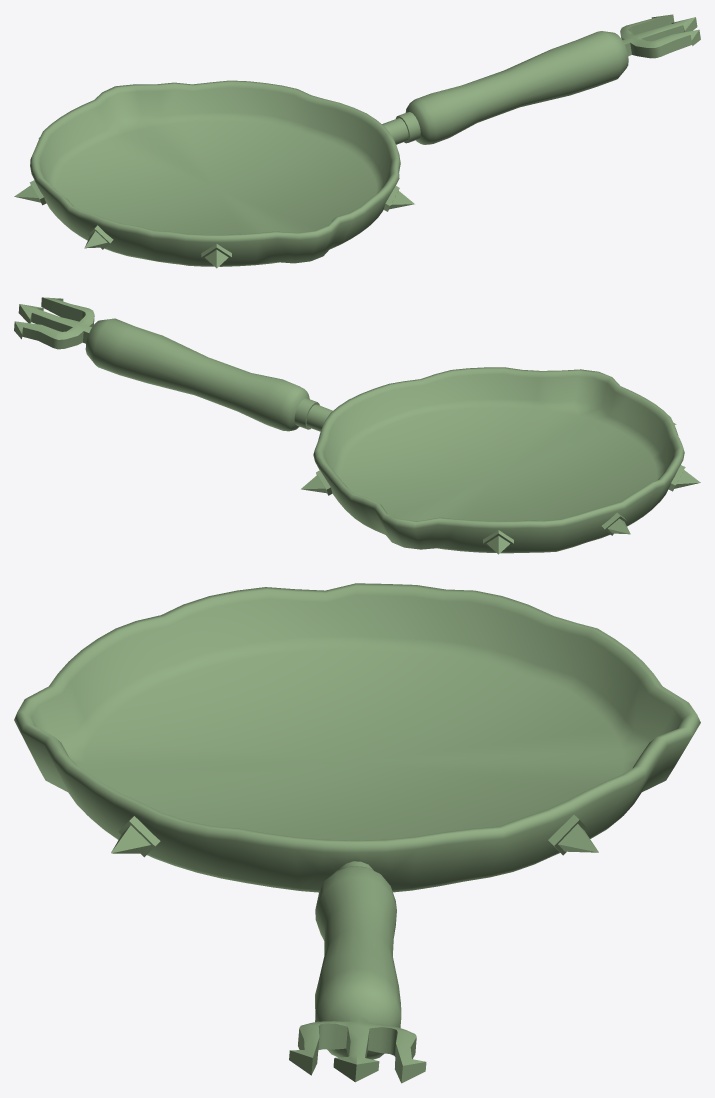
Rendered from SM_Pan_01.fbx.
3 renders of one model, top to bottom at view 1: azimuth 30°, elevation 25°; view 2: azimuth 150°, elevation 25°; view 3: azimuth 270°, elevation 25°, orthographic. The views are drawn at different scales.
Parts seen in each view (by area): view 1: SM_Pan_01; view 2: SM_Pan_01; view 3: SM_Pan_01.
Part boxes in pixels (x1,y1,x2,y2): SM_Pan_01: [14, 14, 700, 268]; SM_Pan_01: [14, 297, 700, 554]; SM_Pan_01: [14, 583, 700, 1083].
Size of the model in its own units: 1397 by 145 by 762.
